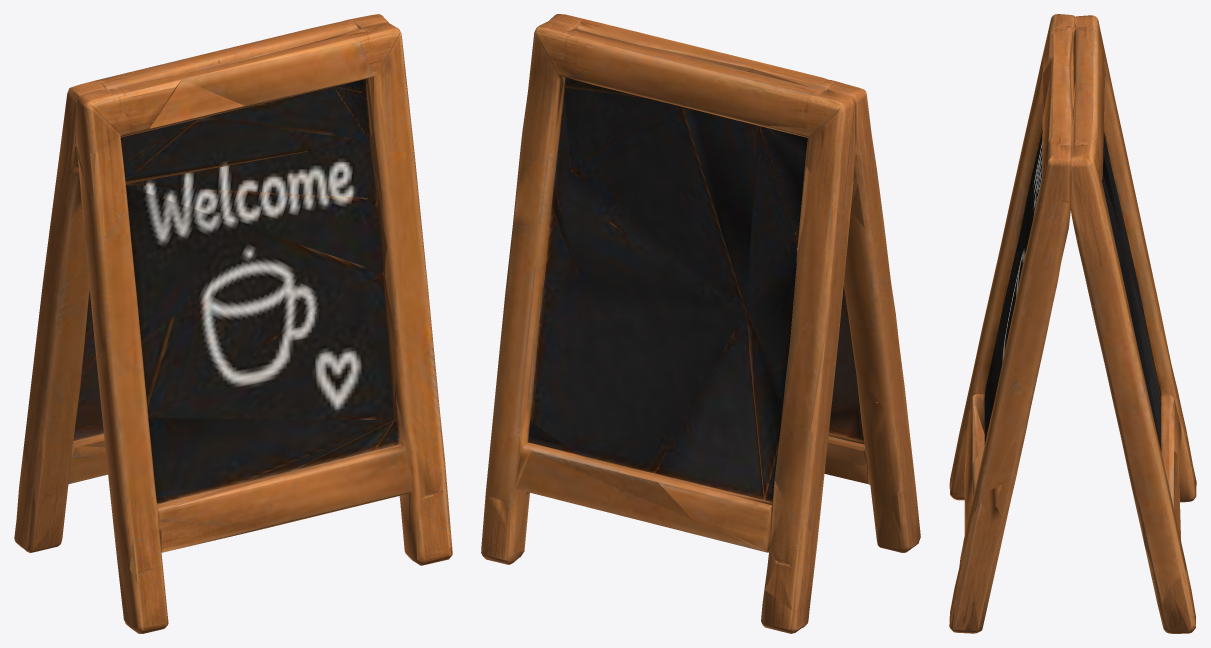
File: welcome_sign.gltf
3 renders of one model, left to right at view 1: azimuth 30°, elevation 25°; view 2: azimuth 150°, elevation 25°; view 3: azimuth 270°, elevation 25°, orthographic. The views are drawn at different scales.
Parts seen in each view (by area): view 1: welcome_sign; view 2: welcome_sign; view 3: welcome_sign.
Part boxes in pixels (left/top/right/bottom): welcome_sign: left=14, top=14, right=452, bottom=633; welcome_sign: left=481, top=14, right=920, bottom=633; welcome_sign: left=949, top=14, right=1196, bottom=633.
Size of the model in its own units: 1.15 by 1.7 by 0.7992.
Materials: 1 (1 with a texture image).
